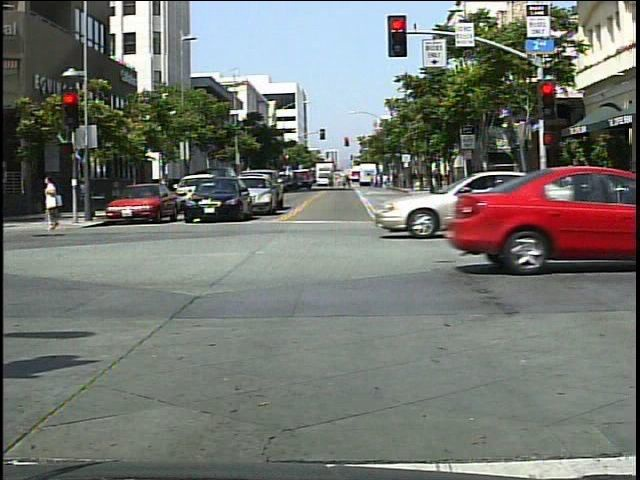person: (38, 171, 69, 235), (559, 161, 582, 212)
